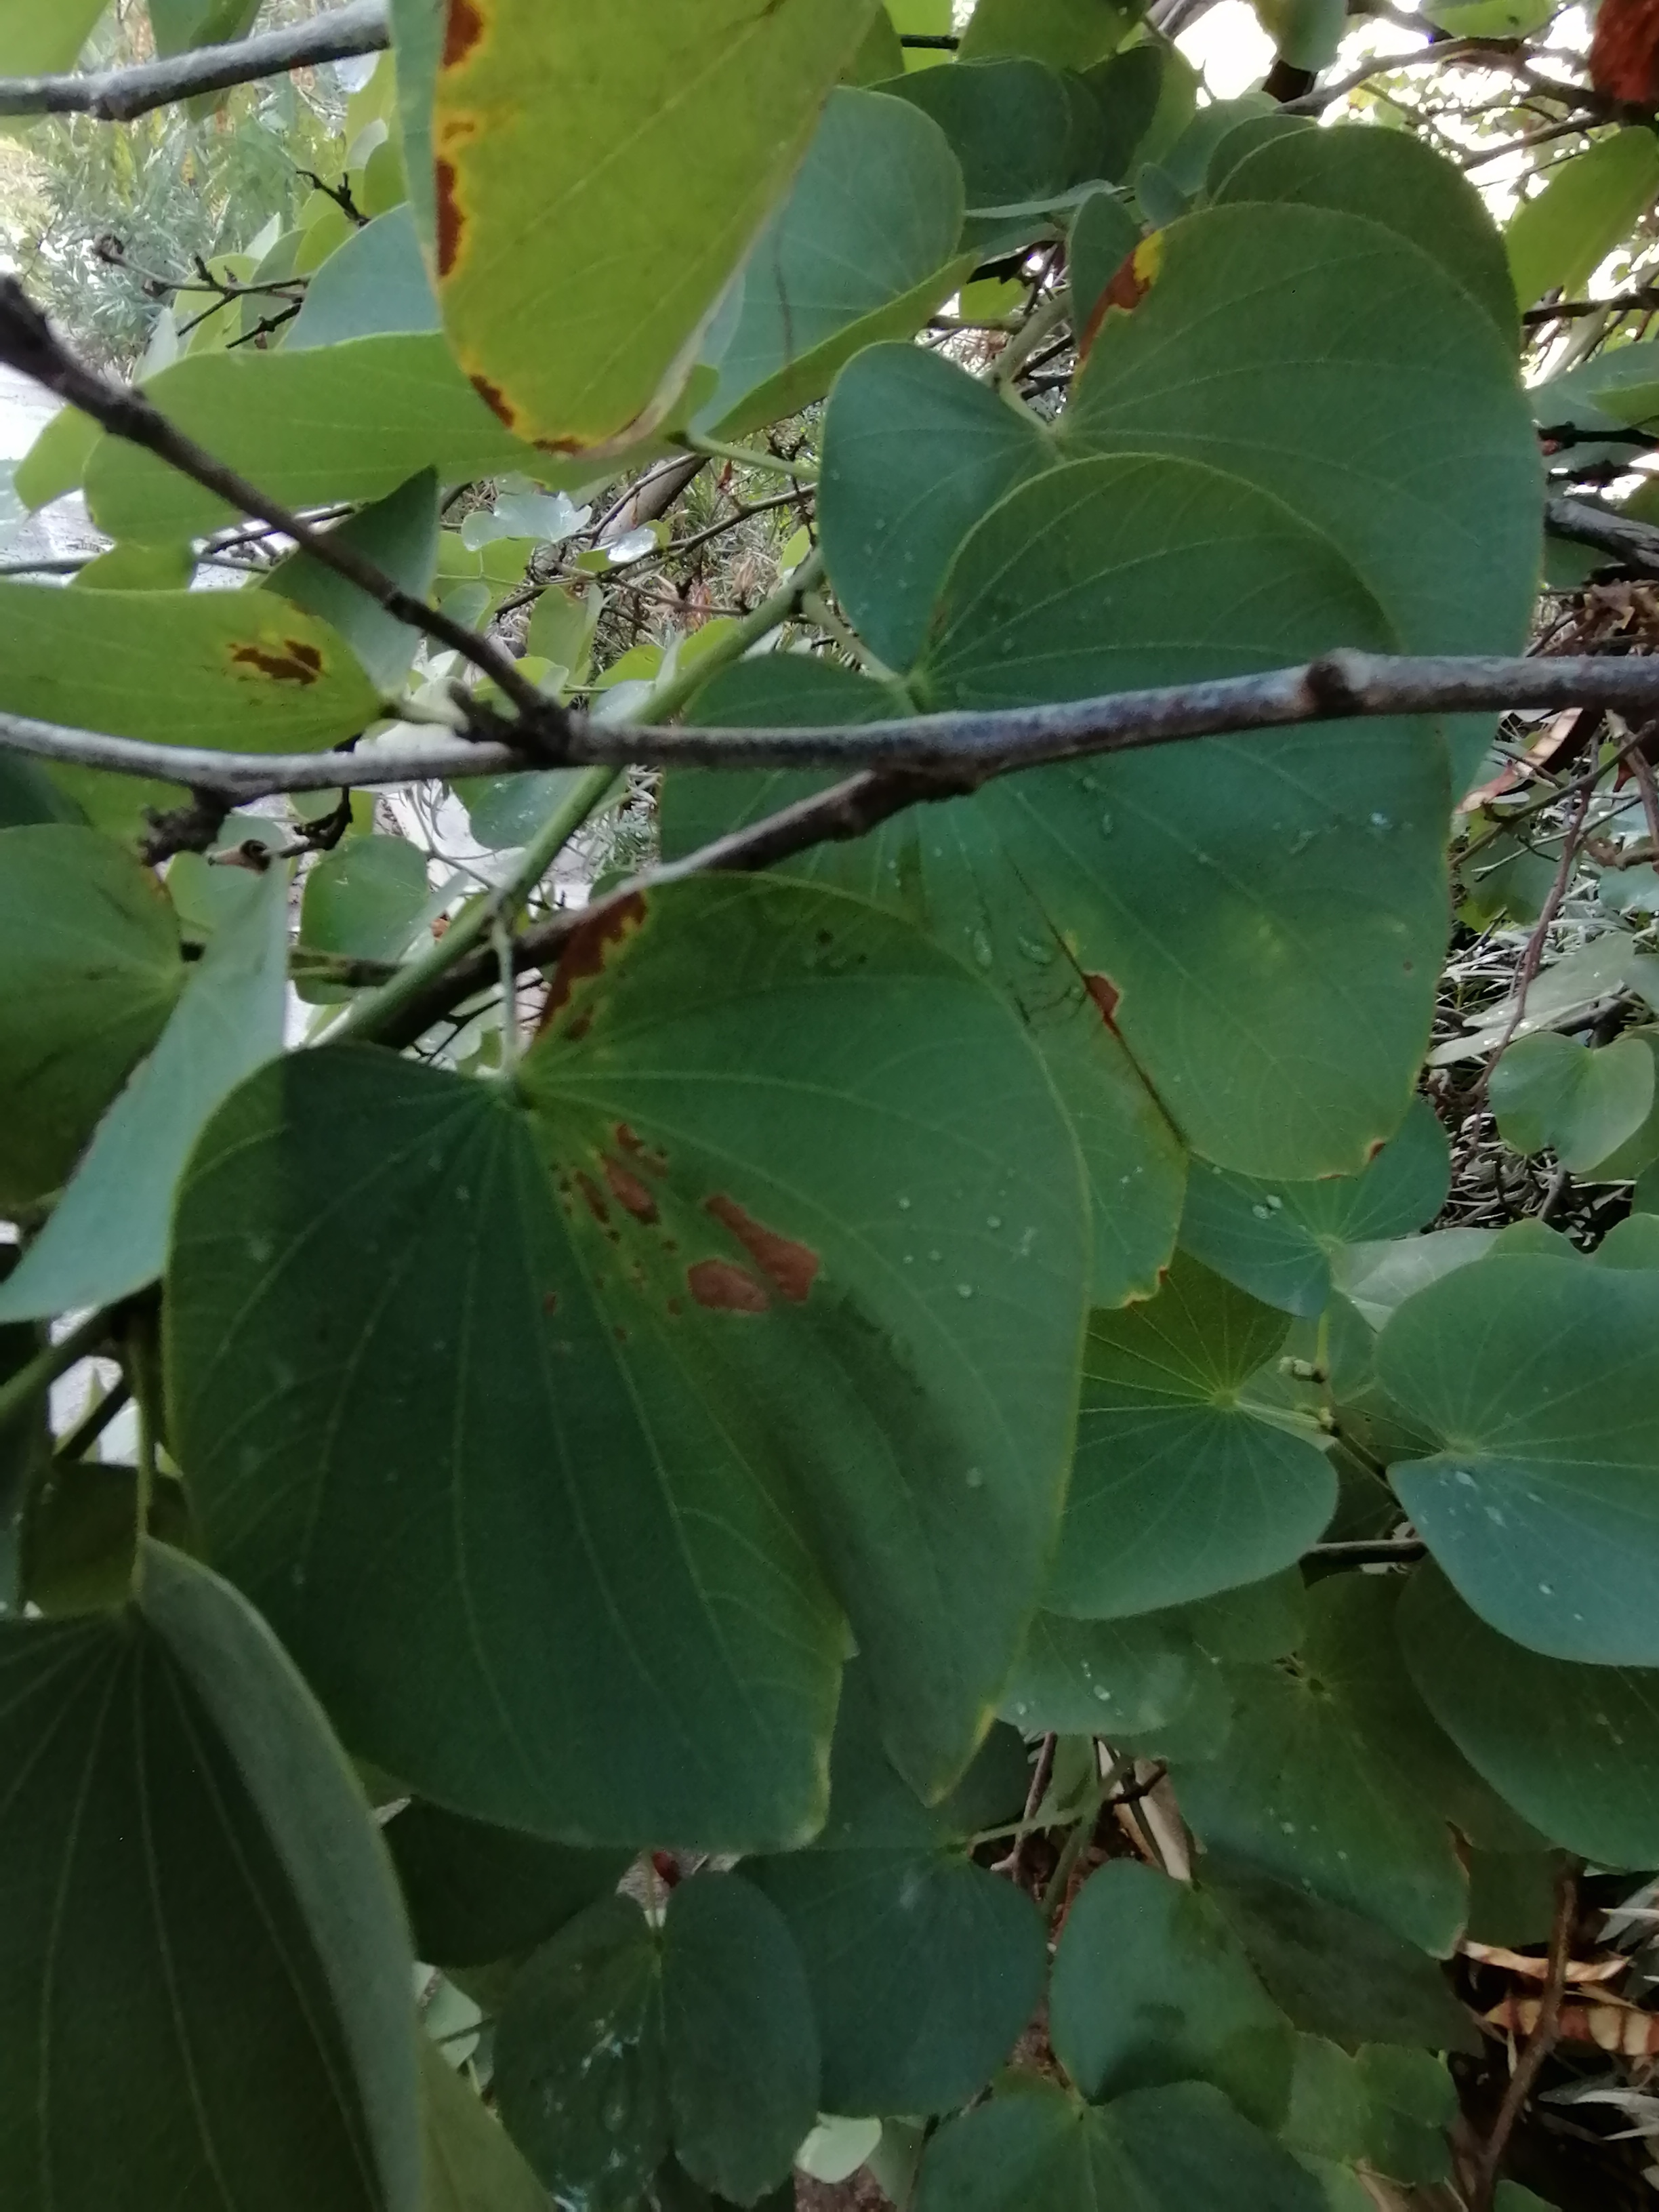nothealthy: (186, 853, 1058, 1827)
